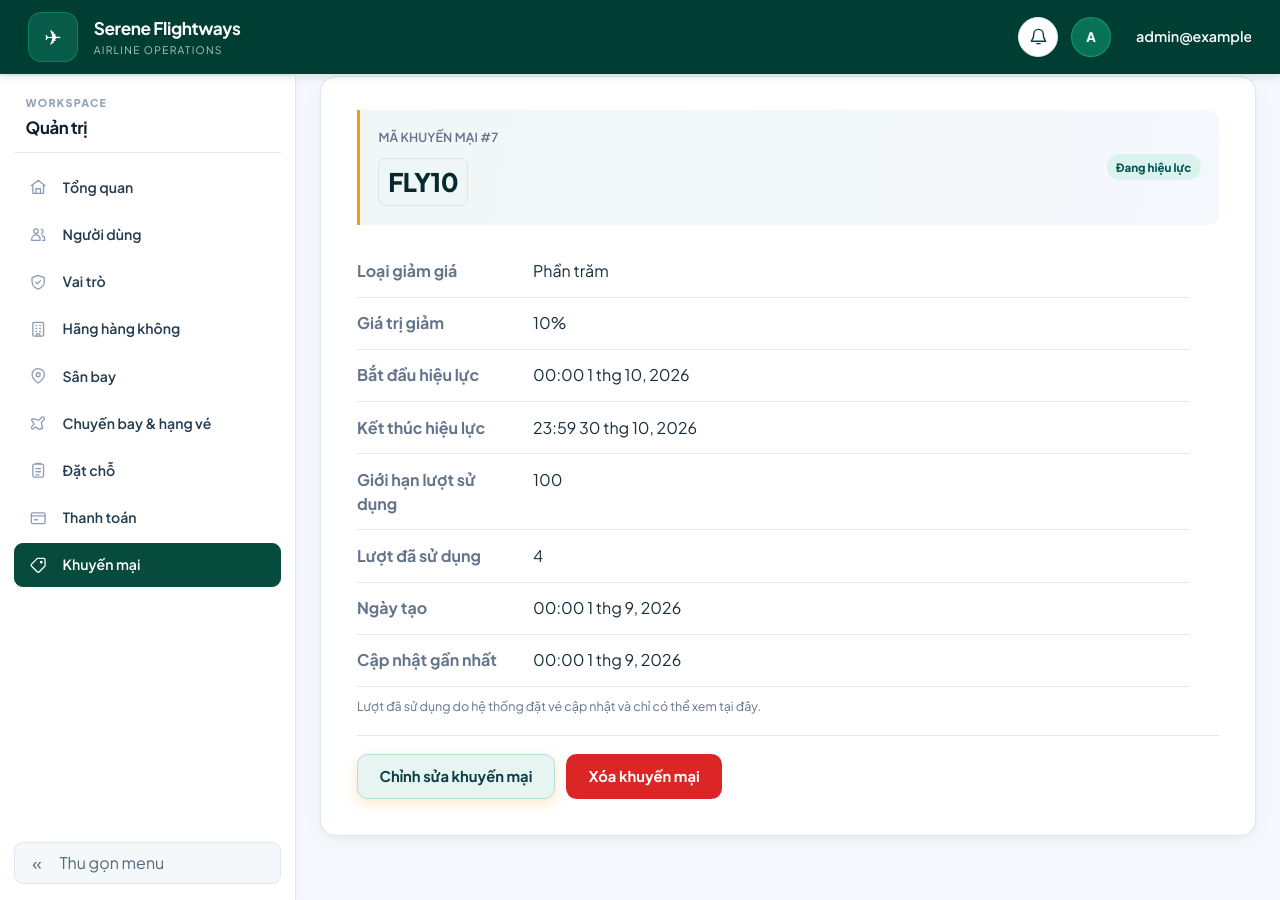
Promotion administration › deletes only after confirmation and displays API error when deletion fails
(page scrolled)
What coordinates should you click on to do the following:
click the button "Xóa khuyến mại"
I would click on:
 (644, 777)
Its box is [566,754,722,800].
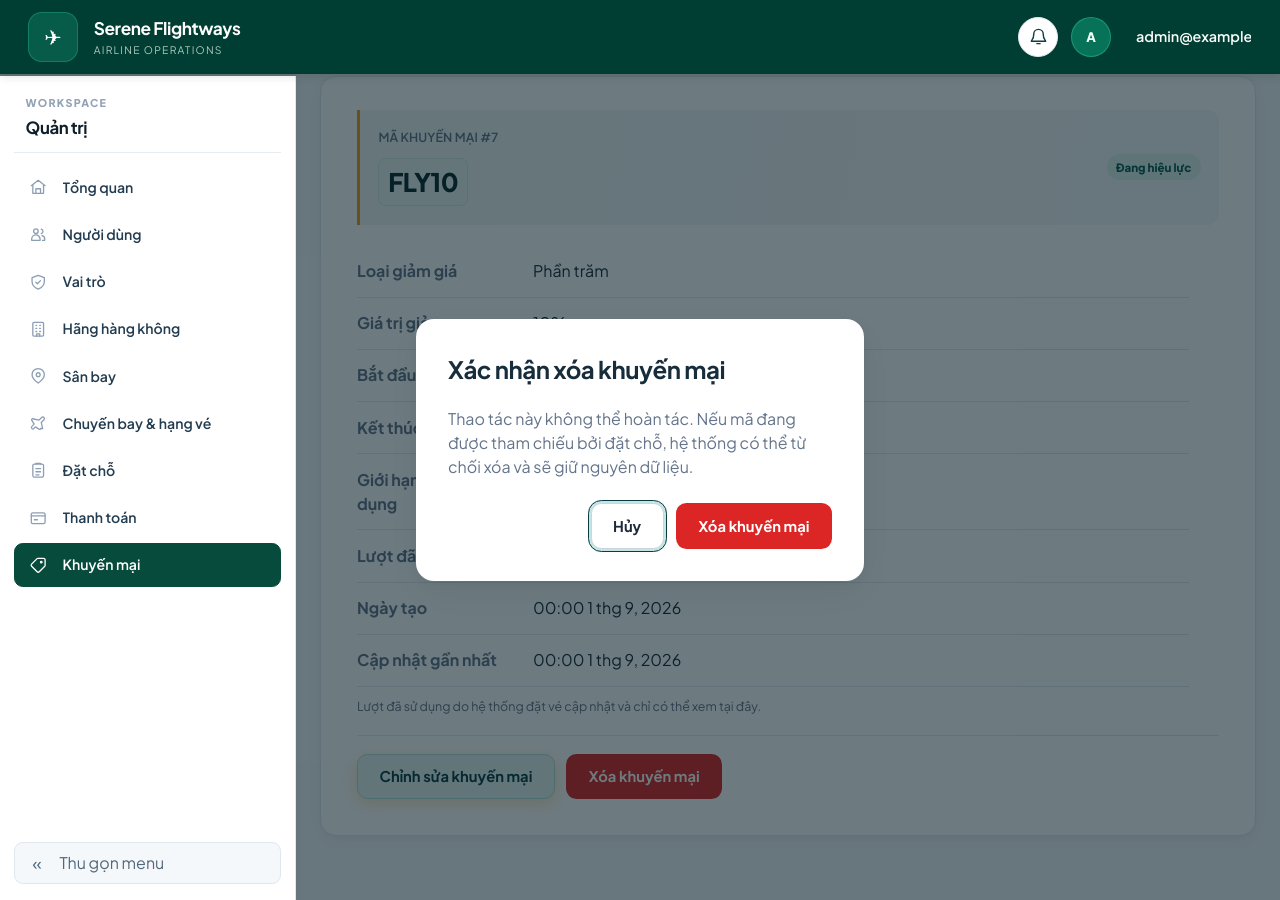
What coordinates should you click on to do the following:
click the button "Xóa khuyến mại"
I would click on:
 (754, 526)
Its box is [676,503,832,549].
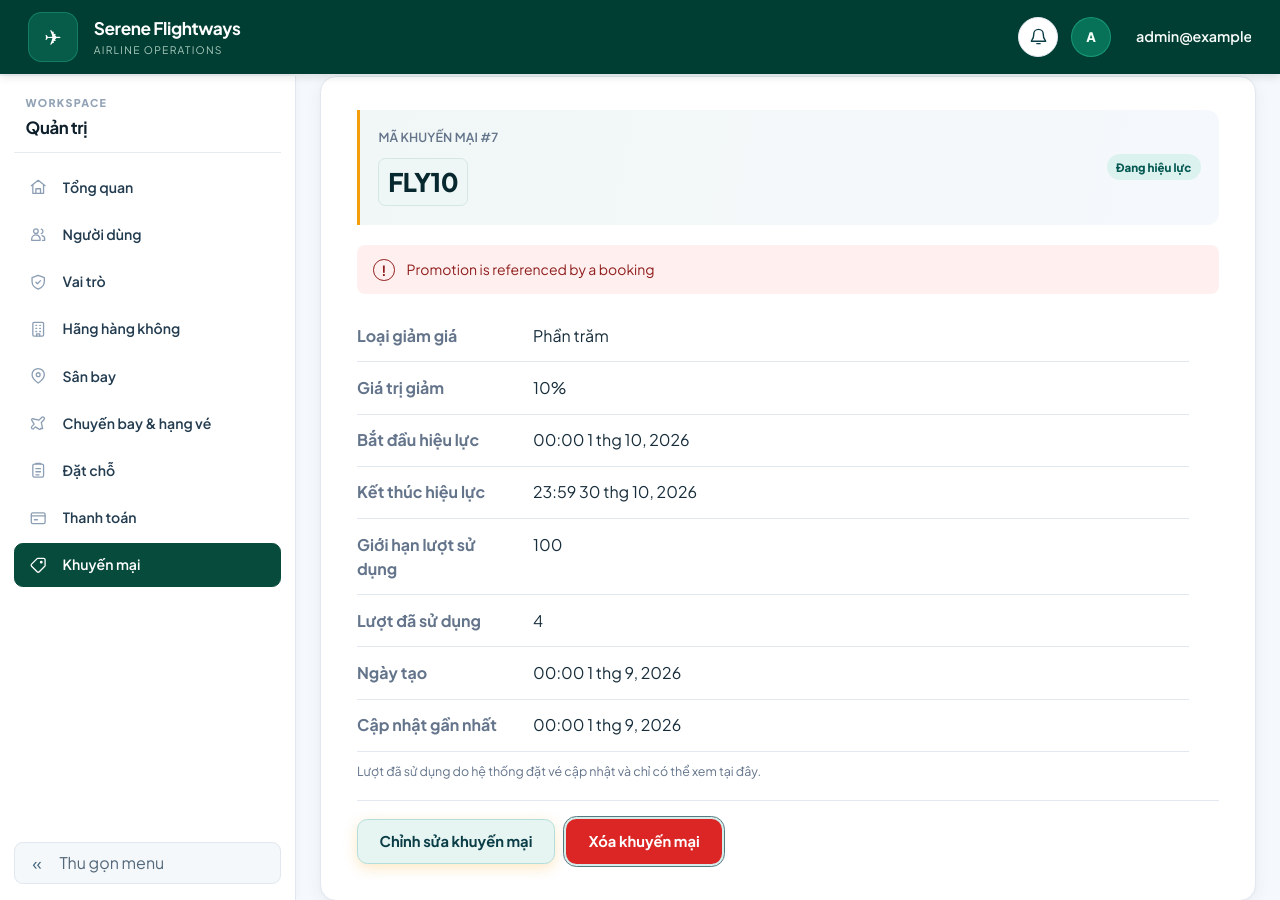
Now the message shows "Promotion is referenced by a booking", box [407,260,655,278]
